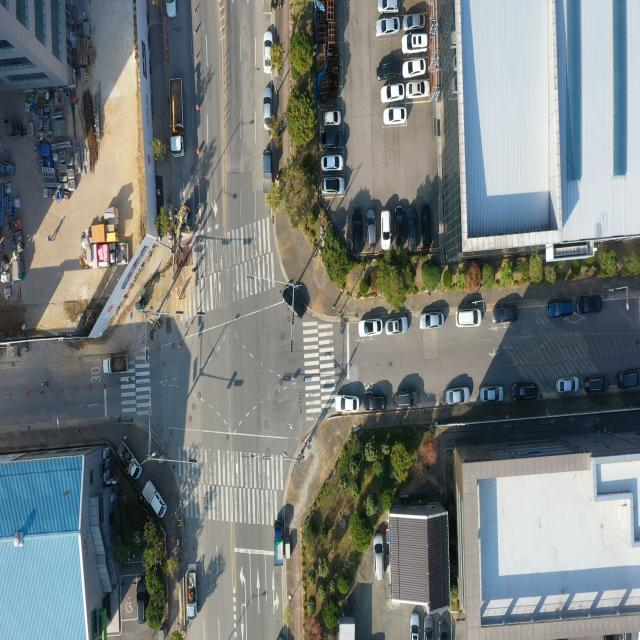car: (284, 286, 308, 323), (421, 200, 433, 248), (619, 365, 640, 391), (394, 200, 406, 244), (550, 296, 575, 317), (584, 374, 610, 393), (321, 130, 344, 151), (455, 310, 481, 328), (492, 307, 518, 325), (577, 298, 603, 316), (381, 209, 392, 251), (375, 18, 399, 37), (394, 389, 418, 408), (446, 387, 471, 405), (384, 106, 406, 126), (408, 204, 418, 248), (376, 61, 399, 80), (358, 319, 382, 337), (375, 533, 384, 580), (404, 59, 426, 78), (382, 85, 405, 103), (353, 210, 363, 251), (513, 384, 538, 400), (408, 81, 429, 100), (386, 317, 408, 335), (405, 33, 428, 50), (556, 377, 579, 394), (420, 314, 444, 330), (336, 395, 360, 411), (322, 177, 343, 195), (365, 210, 375, 247), (321, 156, 342, 173), (481, 386, 503, 402), (364, 397, 386, 413), (265, 32, 274, 71), (406, 13, 425, 29), (265, 89, 273, 126), (323, 110, 341, 126), (378, 0, 399, 13), (165, 0, 178, 21), (438, 617, 449, 640), (411, 615, 420, 640), (424, 617, 433, 640)
medium_truck: (168, 76, 184, 160)
small_truck: (116, 443, 141, 483), (142, 480, 168, 517), (185, 562, 198, 620), (103, 354, 128, 374), (262, 151, 273, 196), (274, 519, 284, 567)
